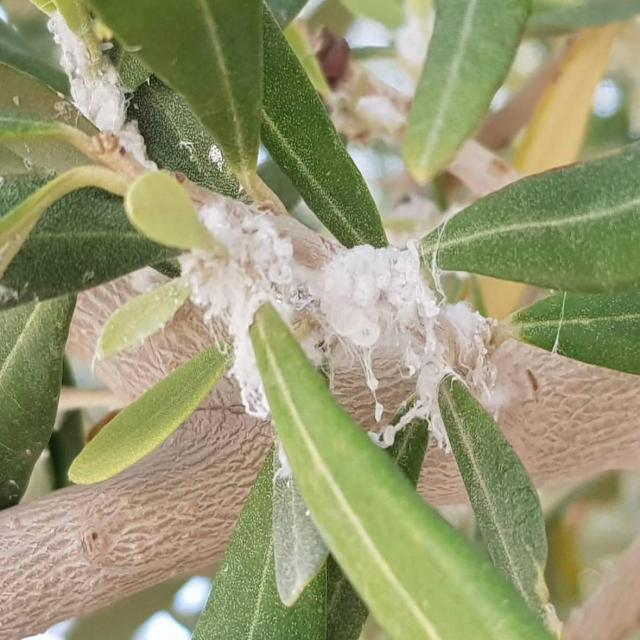Psyllid: (334, 240, 506, 453), (179, 180, 320, 419), (47, 10, 158, 177)
